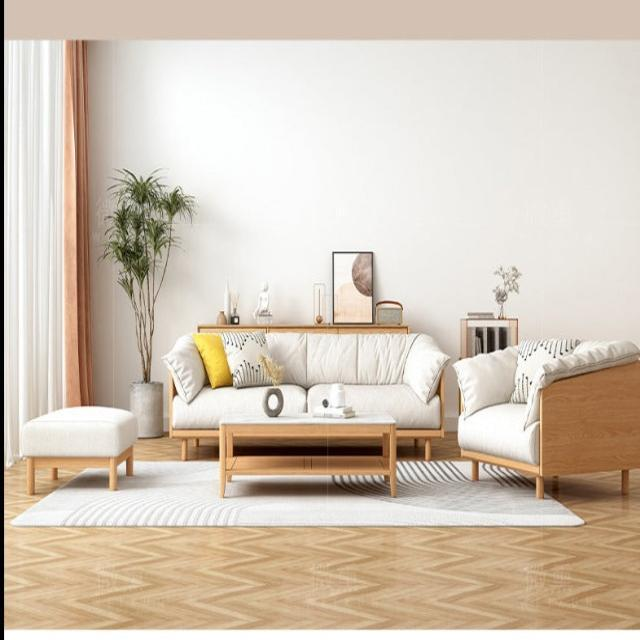sofa: (162, 328, 450, 462), (452, 336, 640, 499)
